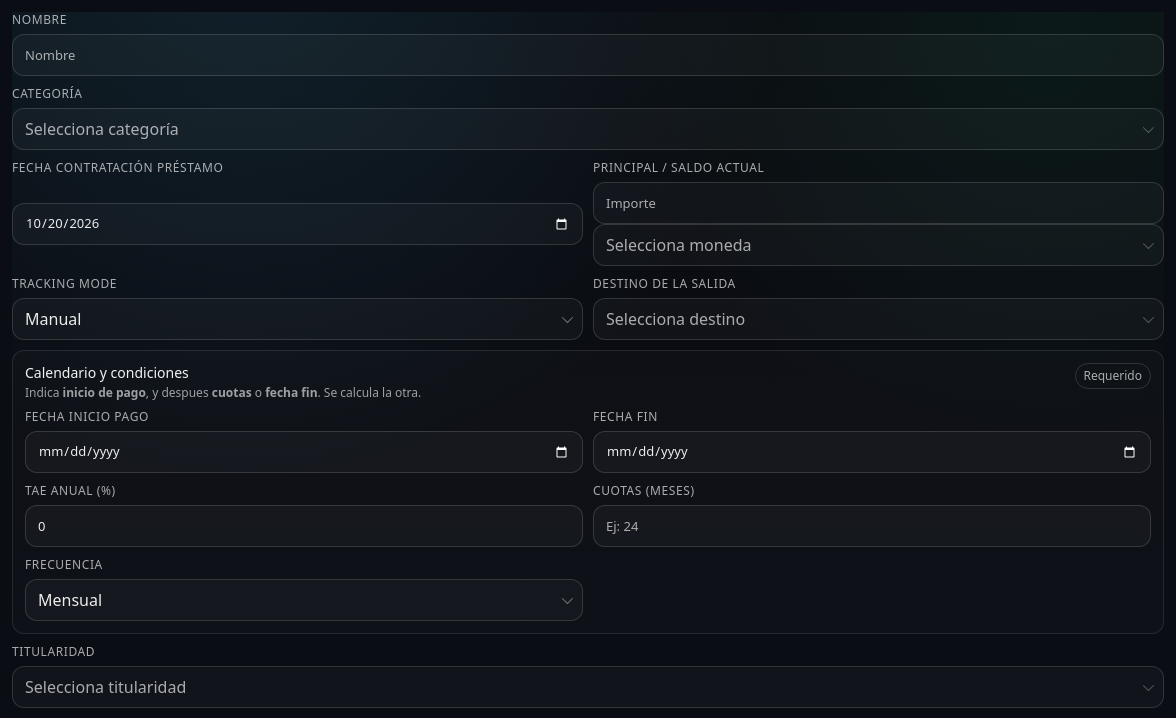
Test: ItemForm (saas) › links term months and expected end date for liabilities
The image size is (1176, 718).
In the date field labelled "Fecha contratación préstamo": (298, 224) [12,203,583,245], type "2024-09-05"
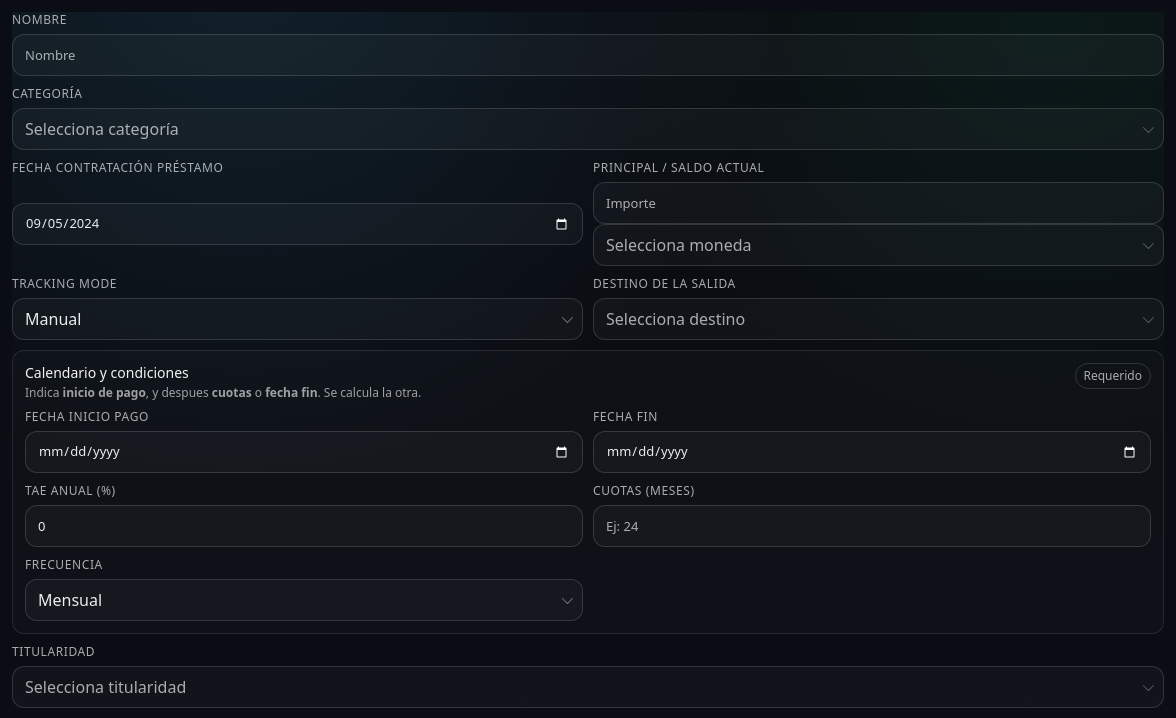
In the field with placeholder "Ej: 24": (872, 526) [593,505,1151,547], type "24"
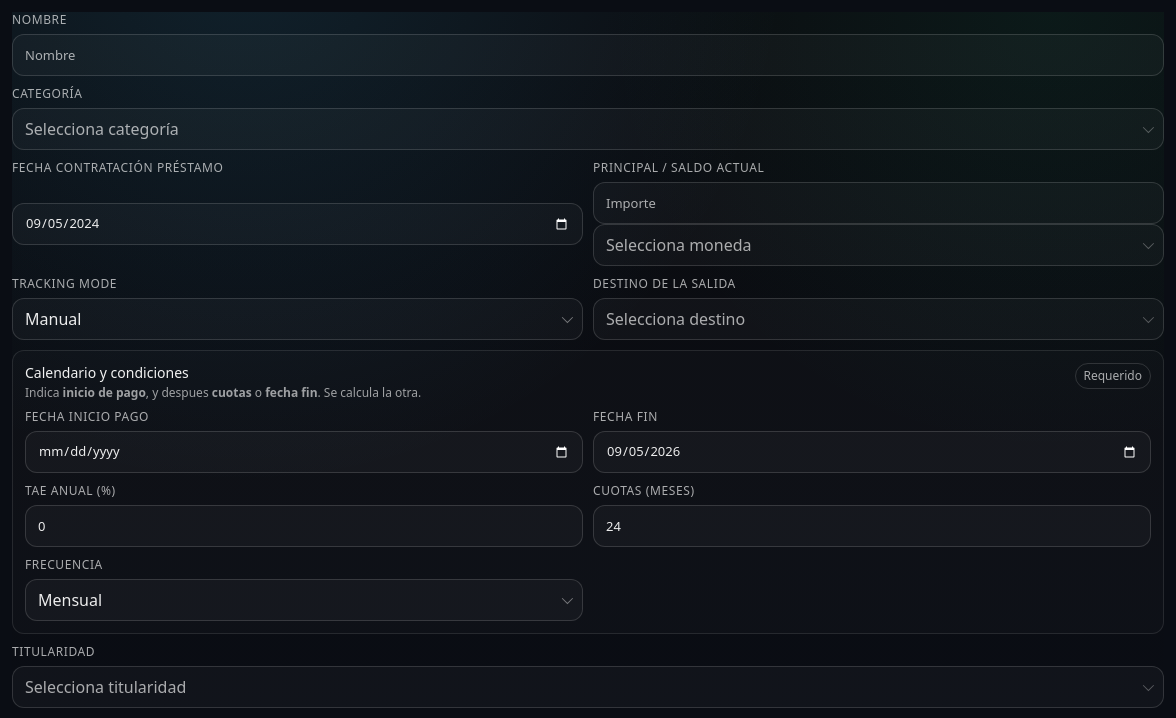
expect the date field labelled "Fecha fin" holds "2026-09-05": met, box [593,431,1151,473]
